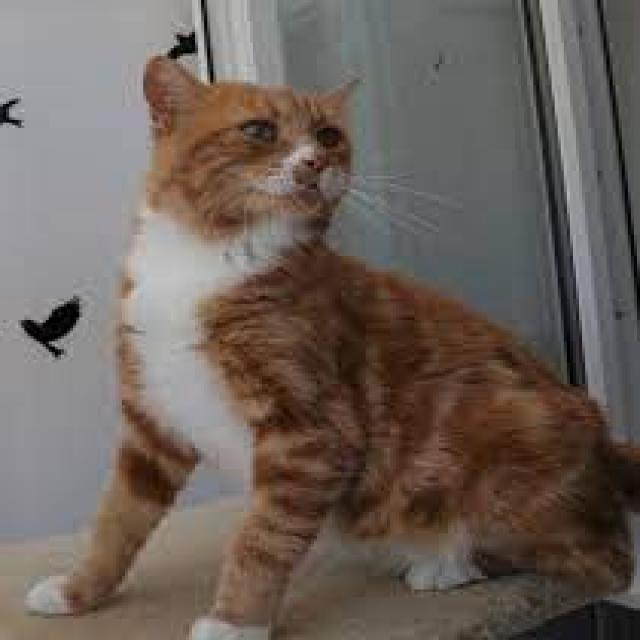Cat: (23, 50, 640, 640)
